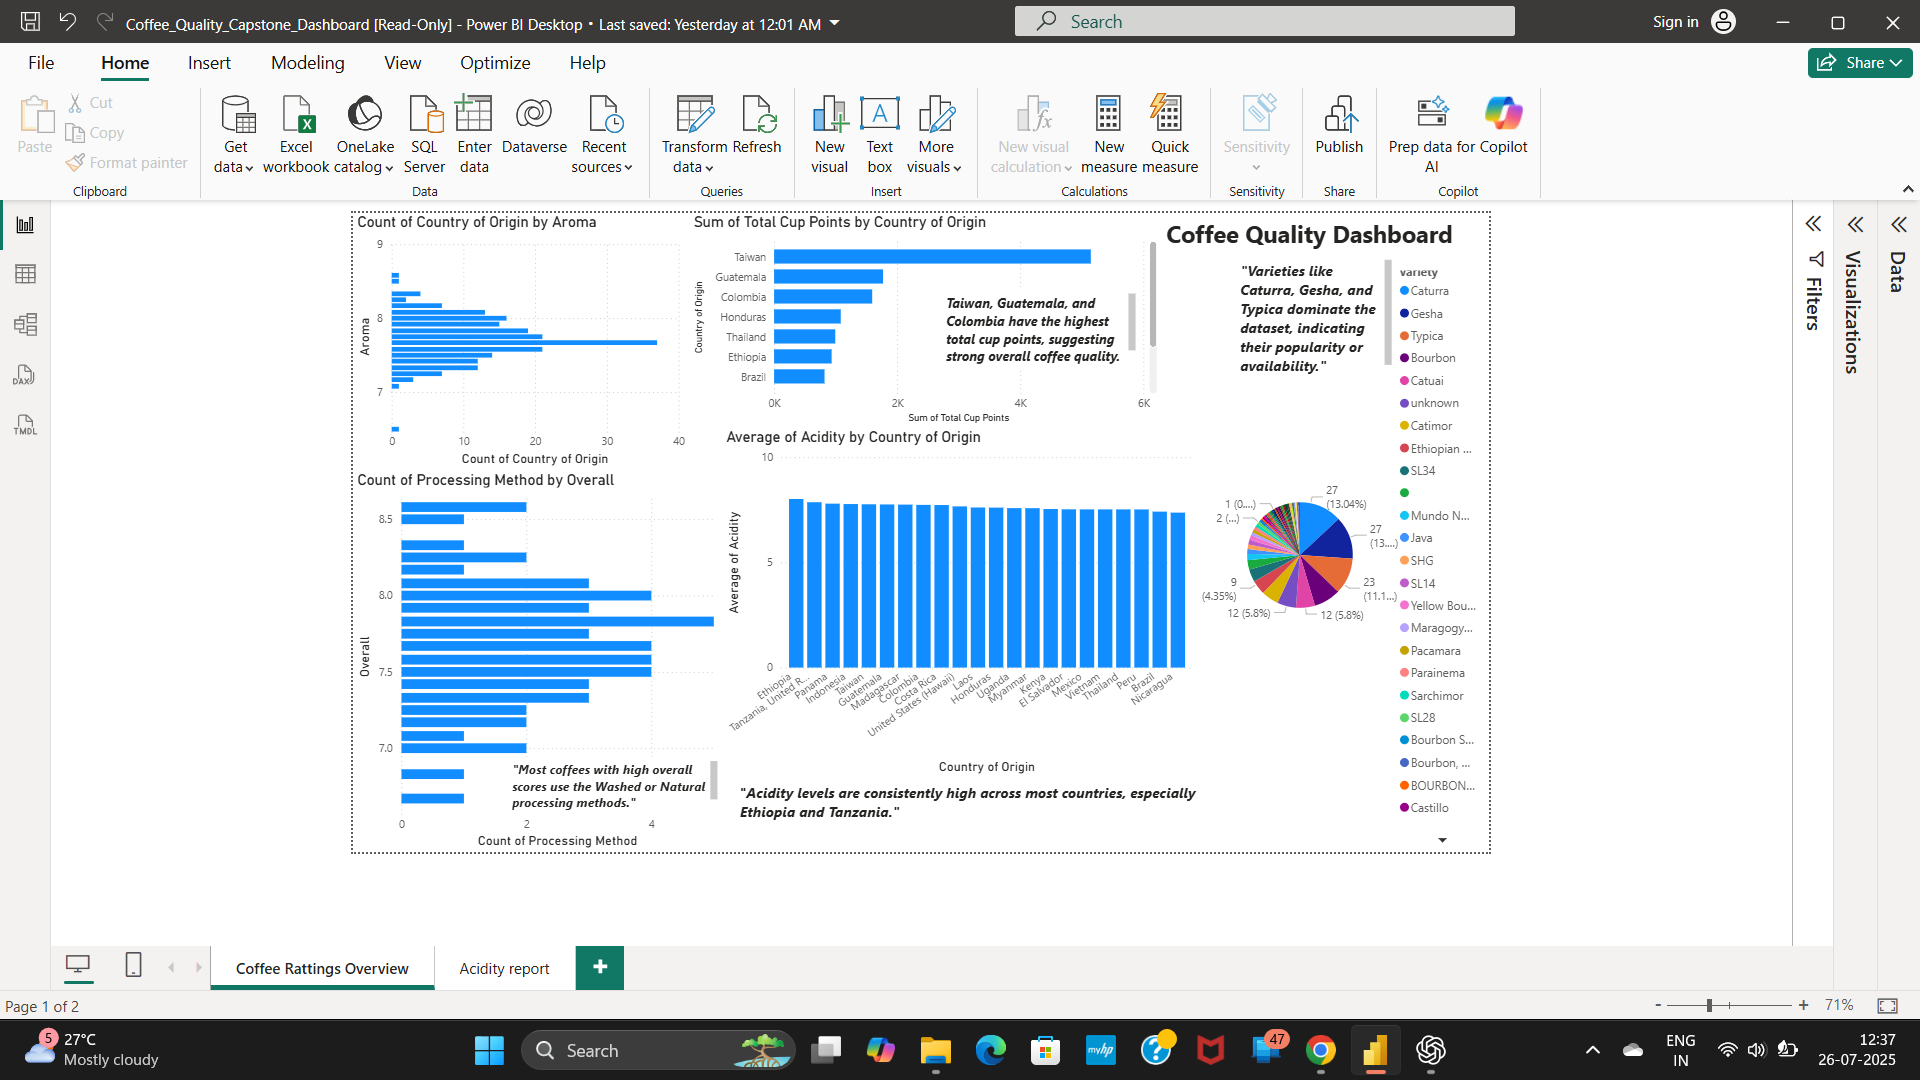

What the dashboard file says about the page in this screenshot:
{"tool":"powerbi","page":{"name":"Coffee Rattings Overview","canvas":[1280,720],"ordinal":0},"visuals":[{"type":"barChart","fields":{"Category":["df_arabica_clean.Aroma"],"Y":["CountNonNull(df_arabica_clean.Country of Origin)"]},"box":[0,0,379.1,289.8],"z":0},{"type":"barChart","fields":{"Category":["df_arabica_clean.Overall"],"Y":["Count(df_arabica_clean.Processing Method)"]},"box":[0,289.8,415.8,430.4],"z":1000},{"type":"clusteredBarChart","fields":{"Category":["df_arabica_clean.Country of Origin"],"Y":["Sum(df_arabica_clean.Total Cup Points)"]},"box":[379.1,0,531.9,242.1],"z":2000},{"type":"clusteredColumnChart","fields":{"Category":["df_arabica_clean.Country of Origin"],"Y":["Avg(df_arabica_clean.Acidity)"]},"box":[415.8,242.1,535.6,395],"z":3000},{"type":"pieChart","fields":{"Category":["df_arabica_clean.Variety"],"Y":["CountNonNull(df_arabica_clean.Variety)"]},"box":[951.4,33,328.9,687.2],"z":4000},{"type":"textbox","box":[911,0,369.3,64.8],"z":5000},{"type":"textbox","box":[664,85.6,223.8,89.3],"z":6000},{"type":"textbox","box":[431.7,637.1,588.2,83.2],"z":7000},{"type":"textbox","box":[174.9,612.6,240.9,66],"z":8000},{"type":"textbox","box":[994.2,47.7,181,141.8],"z":9000}]}

Visuals, with their boxes on the page's 1280x720 design canvas (x1, y1, x2, y2). These are canvas units, not pixel positions in the 1920x1080 screenshot, which may show the page scaled, cropped or inside an application window:
barChart - df_arabica_clean.Aroma x CountNonNull(df_arabica_clean.Country of Origin): <region>0, 0, 379, 290</region>
barChart - df_arabica_clean.Overall x Count(df_arabica_clean.Processing Method): <region>0, 290, 416, 720</region>
clusteredBarChart - df_arabica_clean.Country of Origin x Sum(df_arabica_clean.Total Cup Points): <region>379, 0, 911, 242</region>
clusteredColumnChart - df_arabica_clean.Country of Origin x Avg(df_arabica_clean.Acidity): <region>416, 242, 951, 637</region>
pieChart - df_arabica_clean.Variety x CountNonNull(df_arabica_clean.Variety): <region>951, 33, 1280, 720</region>
textbox: <region>911, 0, 1280, 65</region>
textbox: <region>664, 86, 888, 175</region>
textbox: <region>432, 637, 1020, 720</region>
textbox: <region>175, 613, 416, 679</region>
textbox: <region>994, 48, 1175, 190</region>
